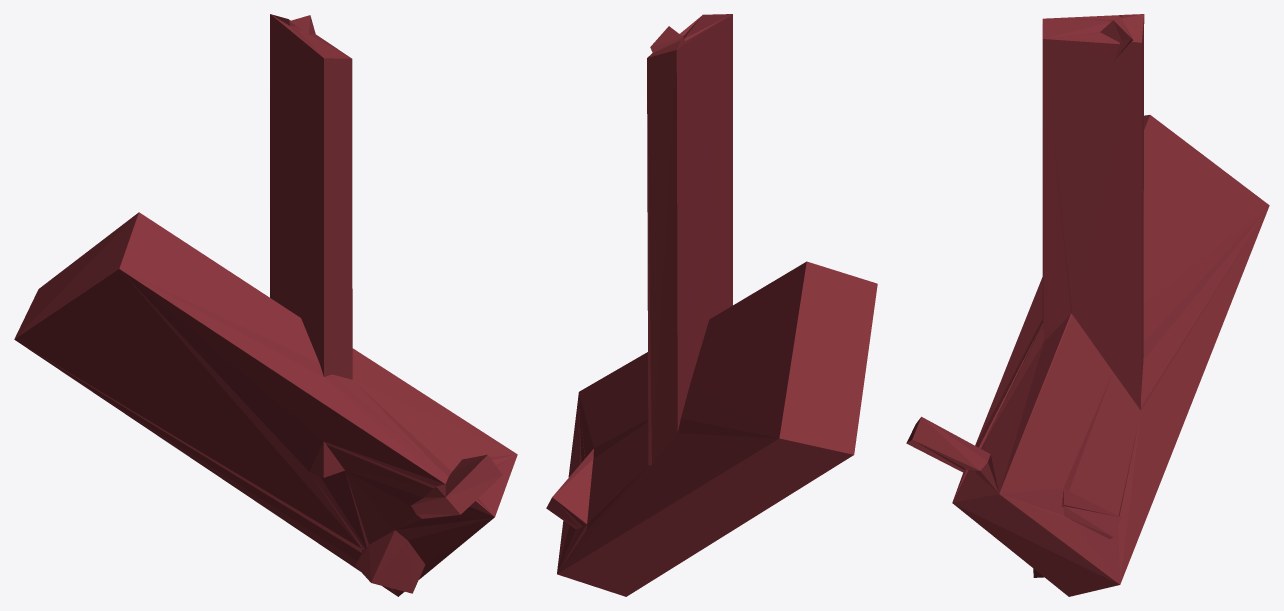
3 views of the same model, side by side, from view 1: azimuth 30°, elevation 25°; view 2: azimuth 150°, elevation 25°; view 3: azimuth 270°, elevation 25° (orthographic). The views are drawn at different scales.
Parts seen in each view (by area): view 1: 661_Cube.2656; view 2: 661_Cube.2656; view 3: 661_Cube.2656.
Boxes of the visible parts, x1,y1,x2,y2 form: 661_Cube.2656: (14,14,517,596); 661_Cube.2656: (546,14,877,596); 661_Cube.2656: (906,14,1269,596).
Size of the model in its own units: 11.2 by 16.18 by 9.74.
